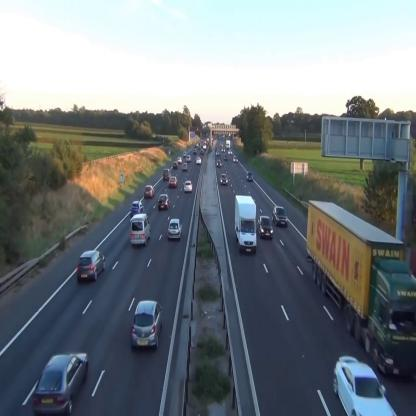car: (330, 353, 396, 416), (34, 353, 90, 416), (130, 299, 163, 350), (77, 250, 105, 282), (258, 215, 274, 239), (168, 219, 183, 242), (273, 206, 288, 227), (130, 200, 144, 217), (158, 195, 170, 209), (144, 185, 154, 199), (168, 176, 177, 187), (162, 168, 171, 179), (184, 182, 193, 192), (220, 174, 228, 184), (246, 172, 254, 180), (182, 164, 188, 172), (196, 157, 202, 165), (216, 160, 222, 168), (186, 154, 191, 162), (177, 157, 182, 164), (233, 155, 238, 162)
lorry: (306, 194, 413, 375), (235, 194, 258, 256), (130, 214, 151, 246)
